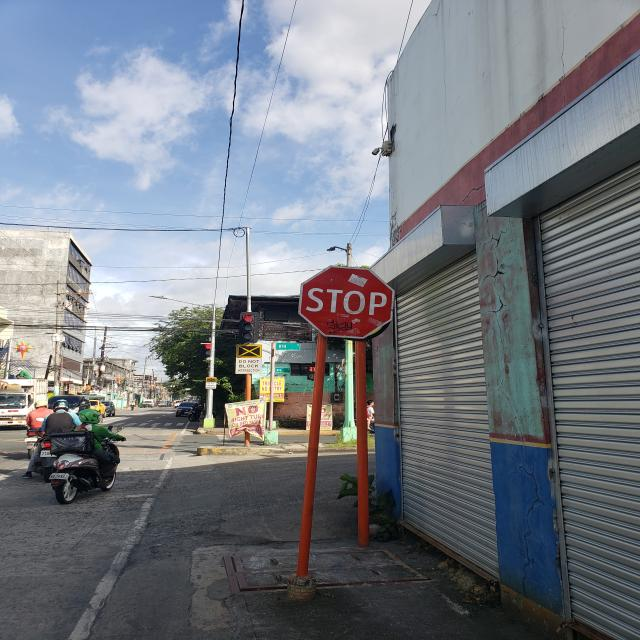stop-sign: (298, 265, 395, 339)
